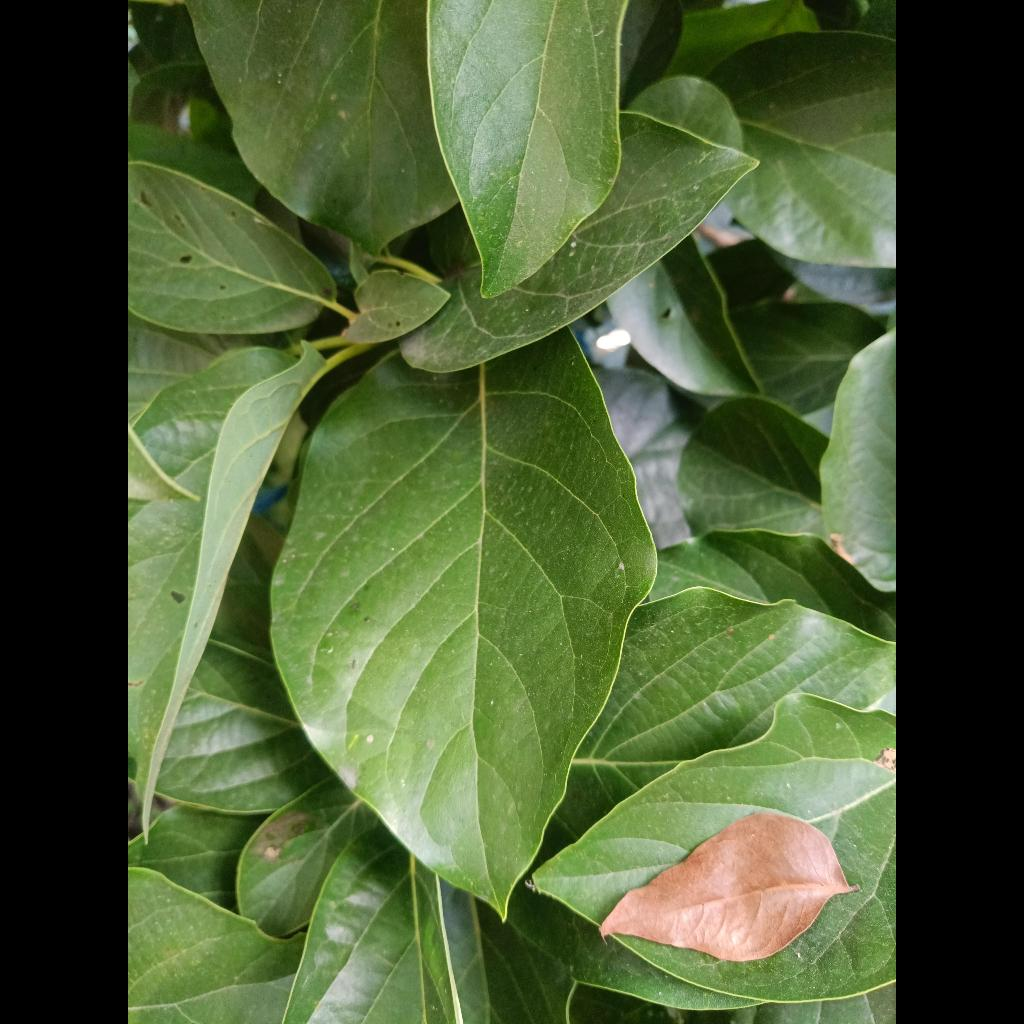hoja_sana: (273, 329, 655, 914)
